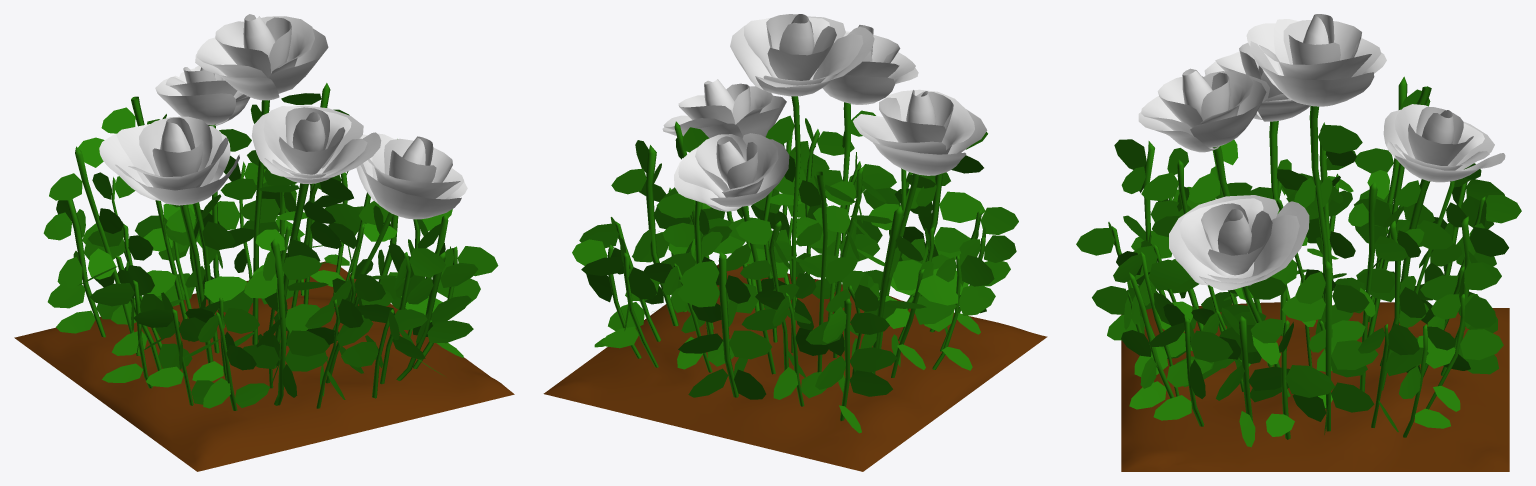
File: white-rose-p3-bloom.glb
3 renders of one model, left to right at view 1: azimuth 30°, elevation 25°; view 2: azimuth 150°, elevation 25°; view 3: azimuth 270°, elevation 25°, orthographic. The views are drawn at different scales.
Visible parts, largest first — view 1: 3_nft_bloom; view 2: 3_nft_bloom; view 3: 3_nft_bloom.
Boxes of the visible parts, x1,y1,x2,y2 form: 3_nft_bloom: [14, 14, 514, 471]; 3_nft_bloom: [543, 14, 1047, 471]; 3_nft_bloom: [1076, 14, 1521, 471].
Size of the model in its own units: 0.7993 by 0.7387 by 0.8042.
